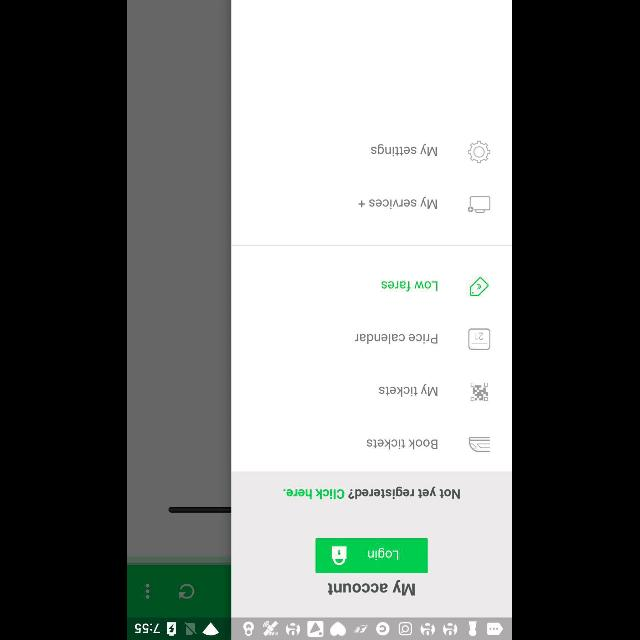icon: (468, 140, 492, 163), (469, 328, 491, 350), (468, 196, 492, 214), (470, 276, 490, 296), (179, 583, 195, 599), (146, 583, 150, 599)
image: (471, 382, 489, 402), (469, 436, 491, 452)
panel: (232, 0, 512, 618)
text: (284, 486, 461, 499), (328, 580, 416, 596), (358, 197, 438, 210), (368, 439, 438, 451), (355, 334, 439, 344), (372, 144, 438, 156), (379, 384, 438, 396), (382, 280, 438, 292)
textbutton: (316, 538, 428, 572)
uppertaskbar: (128, 617, 512, 639)
